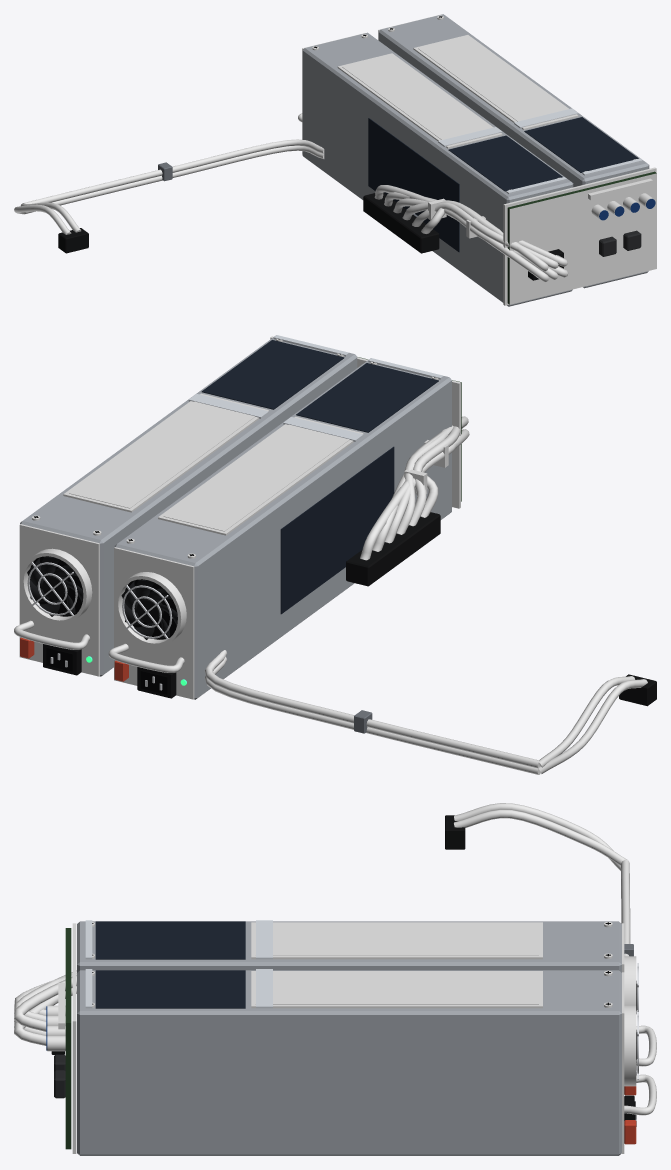
Rendered from hwm_psu_1600w_red.glb.
3 renders of one model, top to bottom at view 1: azimuth 30°, elevation 25°; view 2: azimuth 150°, elevation 25°; view 3: azimuth 270°, elevation 25°, orthographic. The views are drawn at different scales.
Visible parts, largest first — view 1: Body, Cable_ATX24, Cable_EPS_Run, Cable_EPS_Plug; view 2: Body, Cable_ATX24, Cable_EPS_Run, Cable_EPS_Plug; view 3: Body, Cable_EPS_Plug, Cable_ATX24, Cable_EPS_Run.
Boxes of the visible parts, <box> form: Body: <box>298,14,656,306</box>; Cable_ATX24: <box>363,185,568,281</box>; Cable_EPS_Run: <box>23,139,324,214</box>; Cable_EPS_Plug: <box>14,202,88,253</box>; Body: <box>14,335,461,699</box>; Cable_ATX24: <box>346,416,469,586</box>; Cable_EPS_Run: <box>204,650,540,774</box>; Cable_EPS_Plug: <box>538,674,656,773</box>; Body: <box>46,920,656,1155</box>; Cable_EPS_Plug: <box>445,803,627,870</box>; Cable_ATX24: <box>14,970,76,1054</box>; Cable_EPS_Run: <box>621,859,633,956</box>.
Bounding box in the file's own units: 0.4035 × 0.0958 × 0.3776.
